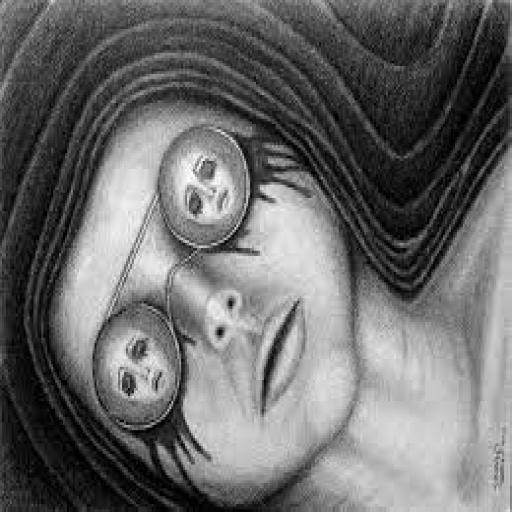person: (10, 0, 462, 512)
